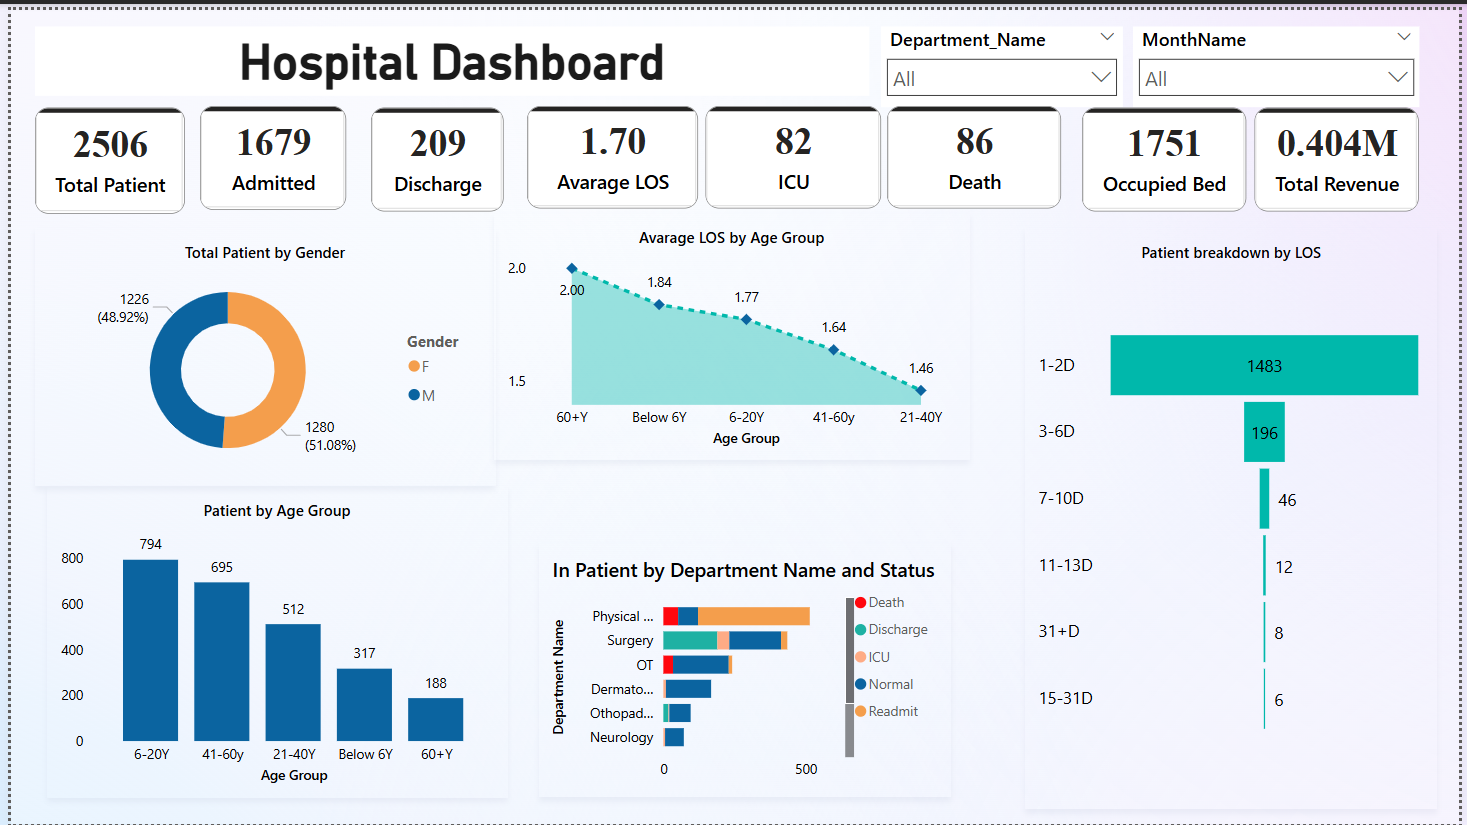

Layout of this report page (visuals, bound fields, positions):
{"tool":"powerbi","page":{"name":"Patients Summary ","canvas":[1280,720],"ordinal":1},"visuals":[{"type":"cardVisual","fields":{"Data":["Measure.Total Patient"]},"box":[21.2,86.2,132.5,93.8],"z":0},{"type":"slicer","fields":{"Values":["Department.Department_Name"]},"box":[769.2,15.1,213.9,71.3],"z":2000},{"type":"slicer","fields":{"Values":["Calendar_date.MonthName"]},"box":[992.6,15.1,253.6,71.3],"z":3000},{"type":"cardVisual","fields":{"Data":["Measure.In Patient"]},"box":[167.5,85.6,129.6,91.7],"z":4000},{"type":"cardVisual","fields":{"Data":["Measure.Total Discharge"]},"box":[319,86.8,117.4,91.7],"z":5000},{"type":"cardVisual","fields":{"Data":["Measure.Avarage LOS"]},"box":[456,84.3,151.6,90.5],"z":6000},{"type":"cardVisual","fields":{"Data":["Measure.ICU"]},"box":[613.7,84.3,155.2,90.5],"z":7000},{"type":"cardVisual","fields":{"Data":["Measure.Death"]},"box":[775,84.3,154,90.5],"z":8000},{"type":"cardVisual","fields":{"Data":["Measure.Occupied Bed"]},"box":[947.4,86.8,145.5,91.7],"z":9000},{"type":"cardVisual","fields":{"Data":["Measure.Total Revenue"]},"box":[1100.2,86.8,145.5,91.7],"z":10000},{"type":"donutChart","fields":{"Category":["Detail data dataset.Gender"],"Y":["Measure.Total Patient"]},"box":[20.8,191.9,407.1,228.6],"z":11000},{"type":"columnChart","fields":{"Y":["Measure.Total Patient"],"Category":["Detail data dataset.Age Bucket"]},"box":[31.4,420,407.1,275.7],"z":12000},{"type":"areaChart","fields":{"Y":["Measure.Avarage LOS"],"Category":["Detail data dataset.Age Bucket"]},"box":[427.8,178.5,420.5,218.8],"z":13000},{"type":"barChart","fields":{"Category":["Department.Department_Name"],"Y":["Measure.In Patient"],"Series":["Detail data dataset.Status"]},"box":[467,471,364.9,225.6],"z":14000},{"type":"funnel","title":"Patient breakdown by LOS","fields":{"Y":["Measure.Total Patient"],"Category":["Detail data dataset.Custom"]},"box":[896.9,192.4,364.9,514.8],"z":15000},{"type":"textbox","box":[21.2,14.6,737.7,61],"z":15001}]}

Visuals, with their boxes in screenshot pixels (x1, y1, x2, y2), scaled from the page's 1280x720 canvas onto the 1467x825 screenshot:
cardVisual - Measure.Total Patient: <region>24, 99, 176, 206</region>
slicer - Department.Department_Name: <region>882, 17, 1127, 99</region>
slicer - Calendar_date.MonthName: <region>1138, 17, 1428, 99</region>
cardVisual - Measure.In Patient: <region>192, 98, 341, 203</region>
cardVisual - Measure.Total Discharge: <region>366, 99, 500, 205</region>
cardVisual - Measure.Avarage LOS: <region>523, 97, 696, 200</region>
cardVisual - Measure.ICU: <region>703, 97, 881, 200</region>
cardVisual - Measure.Death: <region>888, 97, 1065, 200</region>
cardVisual - Measure.Occupied Bed: <region>1086, 99, 1253, 205</region>
cardVisual - Measure.Total Revenue: <region>1261, 99, 1428, 205</region>
donutChart - Detail data dataset.Gender x Measure.Total Patient: <region>24, 220, 490, 482</region>
columnChart - Measure.Total Patient x Detail data dataset.Age Bucket: <region>36, 481, 503, 797</region>
areaChart - Measure.Avarage LOS x Detail data dataset.Age Bucket: <region>490, 205, 972, 455</region>
barChart - Department.Department_Name x Measure.In Patient: <region>535, 540, 953, 798</region>
"Patient breakdown by LOS" funnel: <region>1028, 220, 1446, 810</region>
textbox: <region>24, 17, 870, 87</region>
